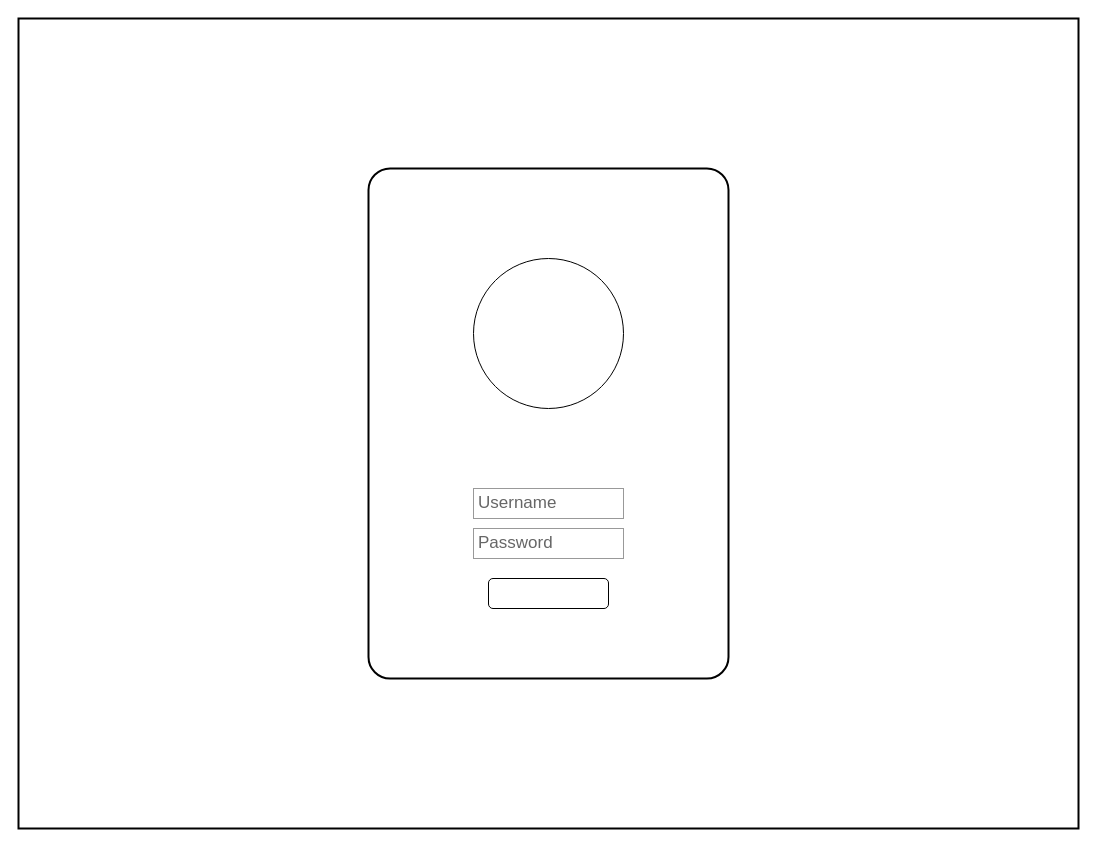
Image size: 1096x846. Some labels were removed from this diagram. The centre of each missing label's shape, as x and y in pixels:
"Login" goes at point (548, 593).
"Logo" goes at point (548, 333).
